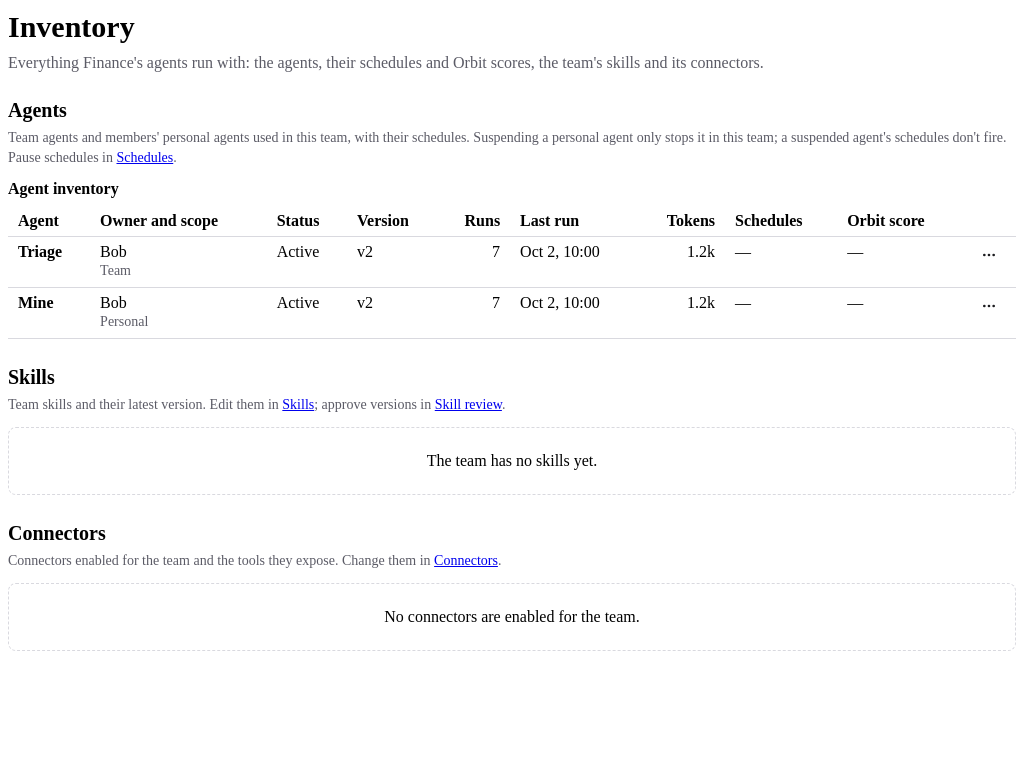
Test: Inventory: agents (KOBE-86, moved here by KOBE-291) › shows the server's refusal of a suspension
The image size is (1024, 768).
Click the button named "Actions for Triage" at (989, 254), box left=972, top=240, right=1006, bottom=268
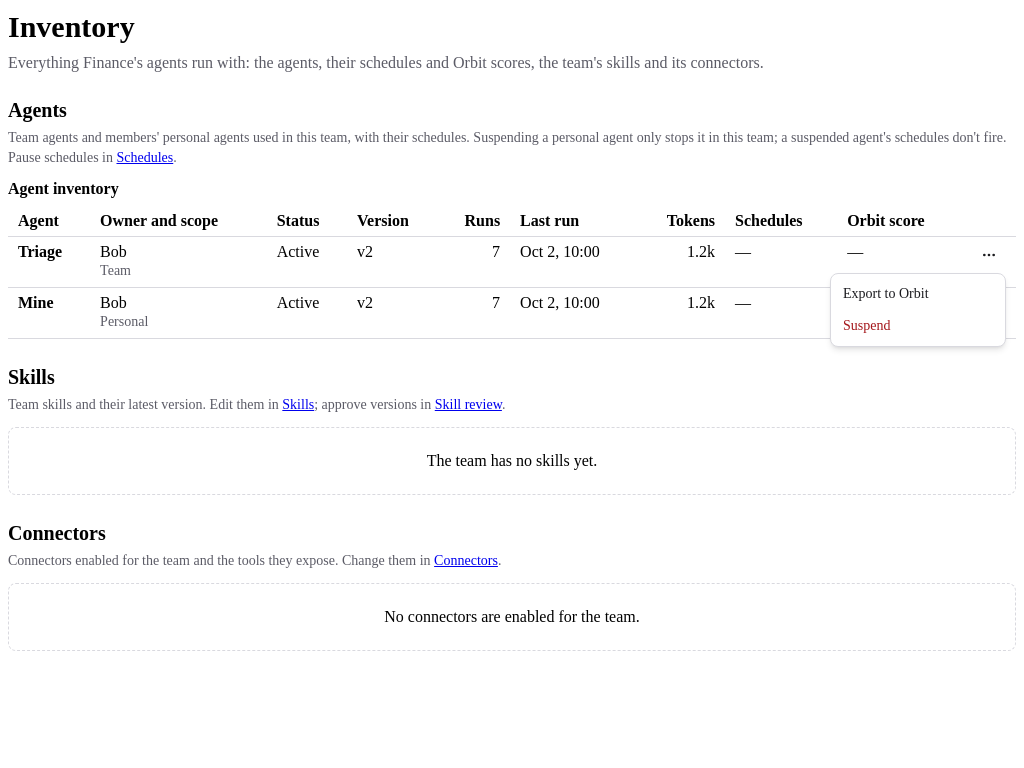
Click the menu item "Suspend" at (867, 326), box left=843, top=318, right=890, bottom=333
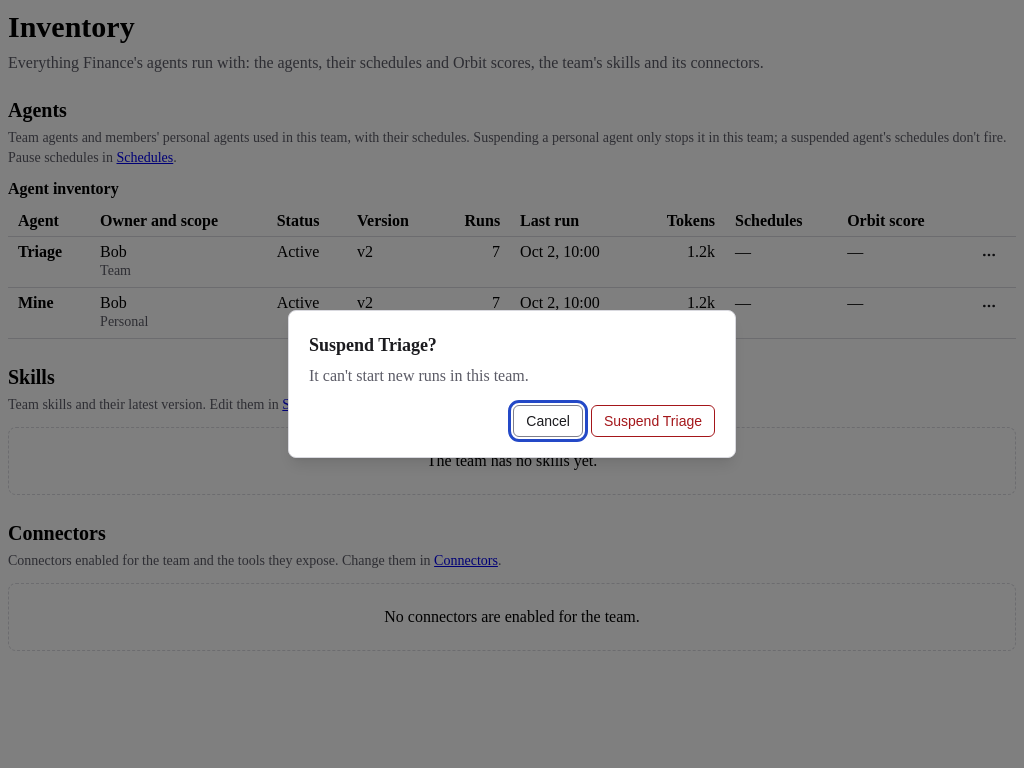
Click the button "Suspend Triage" at (653, 421), box left=591, top=405, right=715, bottom=437
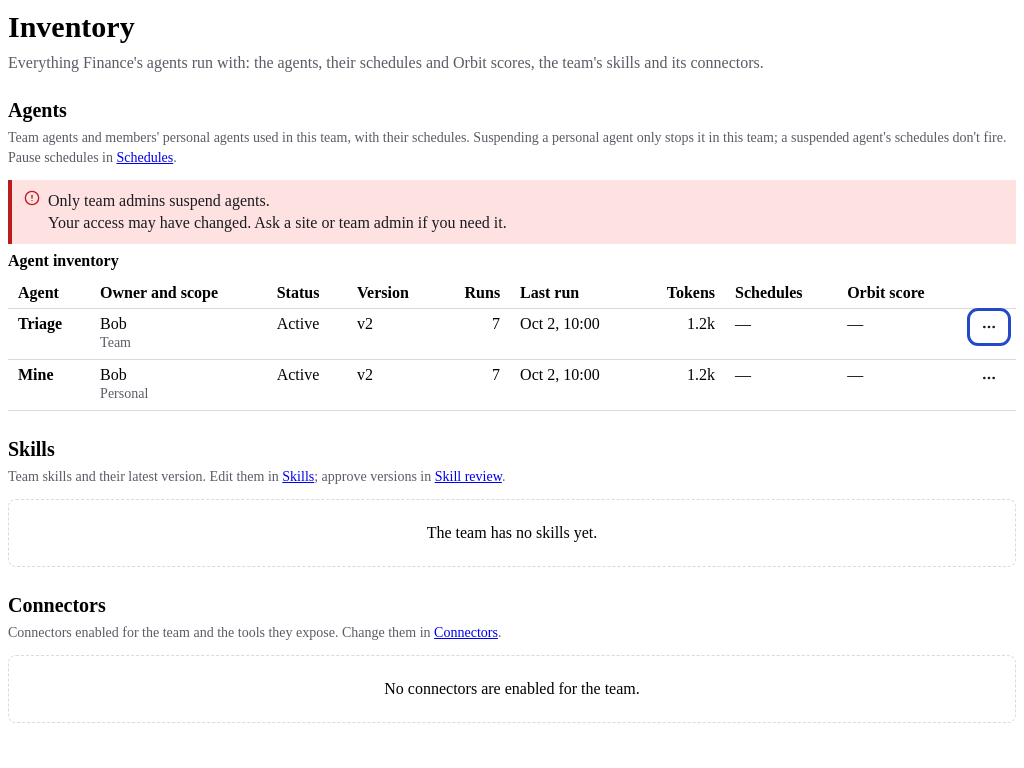
Now the message shows "Only team admins suspend", box left=48, top=192, right=270, bottom=208
